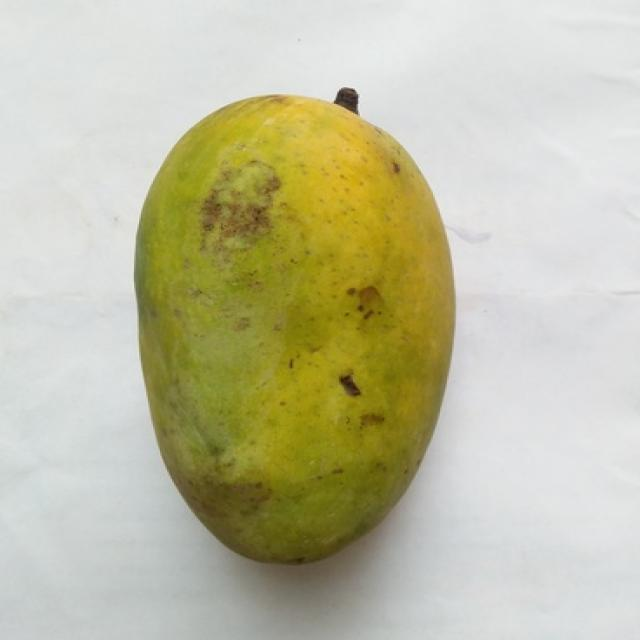Mango: (136, 94, 454, 560)
